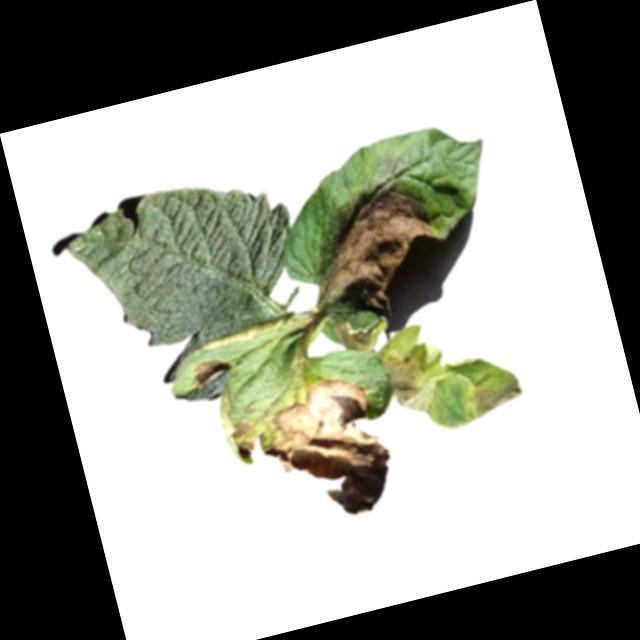Late_blight: (249, 368, 403, 533), (293, 172, 453, 329), (379, 341, 446, 417), (326, 309, 392, 359), (464, 368, 527, 420), (187, 354, 235, 389), (232, 437, 260, 460), (228, 416, 254, 438)
